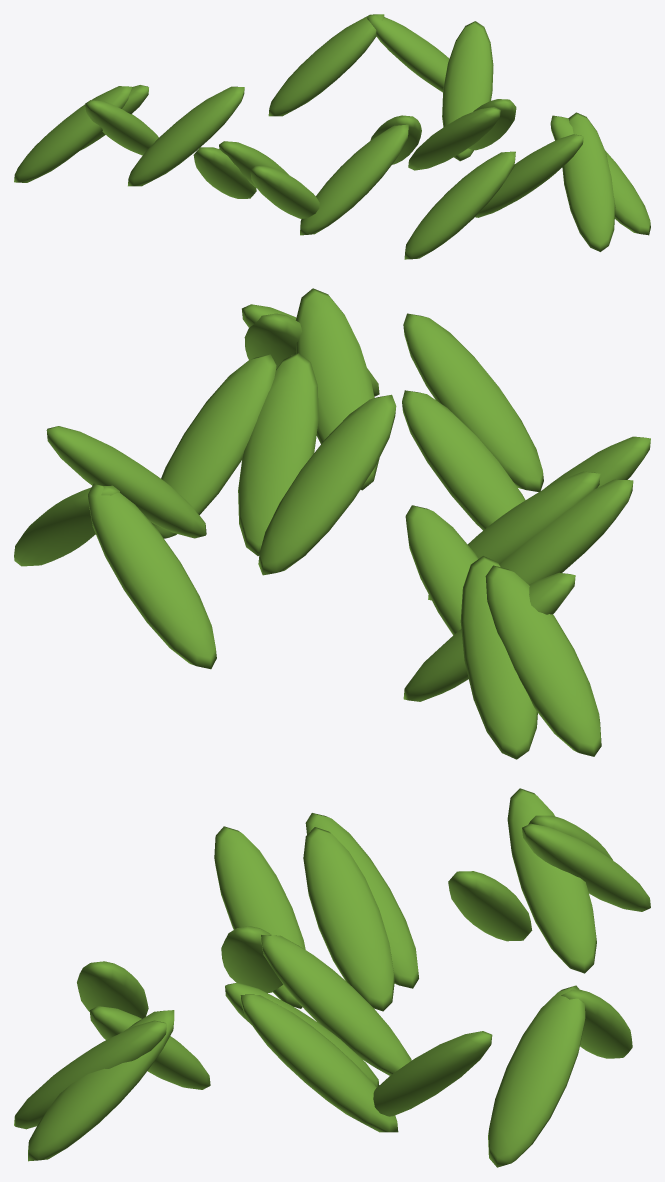
Rendered from BSC-18.glb.
3 views of the same model, one above another, from view 1: azimuth 30°, elevation 25°; view 2: azimuth 150°, elevation 25°; view 3: azimuth 270°, elevation 25° (orthographic). The views are drawn at different scales.
Visible parts, largest first — view 1: leaf.005, leaf.017, leaf.013, leaf.016, leaf.006, leaf.011, leaf.001, leaf.009, leaf.014, leaf.008, leaf.015, leaf.012 (+6 smaller); view 2: leaf.006, leaf, leaf.001, leaf.017, leaf.008, leaf.010, leaf.002, leaf.013, leaf.009, leaf.011, leaf.003, leaf.016 (+6 smaller); view 3: leaf.004, leaf.014, leaf, leaf.007, leaf.010, leaf.012, leaf.015, leaf.011, leaf.002, leaf.005, leaf.003, leaf.016 (+6 smaller).
Part boxes in pixels (x1,y1,x2,y2): leaf.005: (562,112,615,251); leaf.017: (404,151,515,259); leaf.013: (300,124,408,235); leaf.016: (128,86,244,186); leaf.006: (268,14,384,116); leaf.011: (442,21,493,161); leaf.001: (14,86,131,182); leaf.009: (475,134,583,217); leaf.014: (367,15,449,92); leaf.008: (408,107,500,170); leaf.015: (550,115,650,235); leaf.012: (250,166,319,219); leaf.006: (88,483,216,669); leaf: (258,394,396,575); leaf.001: (485,565,601,756); leaf.017: (403,313,543,491); leaf.008: (238,353,318,555); leaf.010: (151,354,276,538); leaf.002: (460,556,537,759); leaf.013: (402,390,525,530); leaf.009: (296,288,379,490); leaf.011: (46,426,206,538); leaf.003: (499,479,633,584); leaf.016: (405,505,478,635); leaf.004: (303,827,394,1011); leaf.014: (488,985,585,1167); leaf: (261,935,411,1075); leaf.007: (507,788,596,973); leaf.010: (240,994,398,1132); leaf.012: (214,826,305,1008); leaf.015: (28,1010,174,1161); leaf.011: (373,1031,492,1116); leaf.002: (522,823,650,911); leaf.005: (14,1020,166,1129); leaf.003: (305,813,418,988); leaf.016: (448,871,532,941).
Bounding box in the file's own units: 1.61 × 0.3269 × 1.51.
